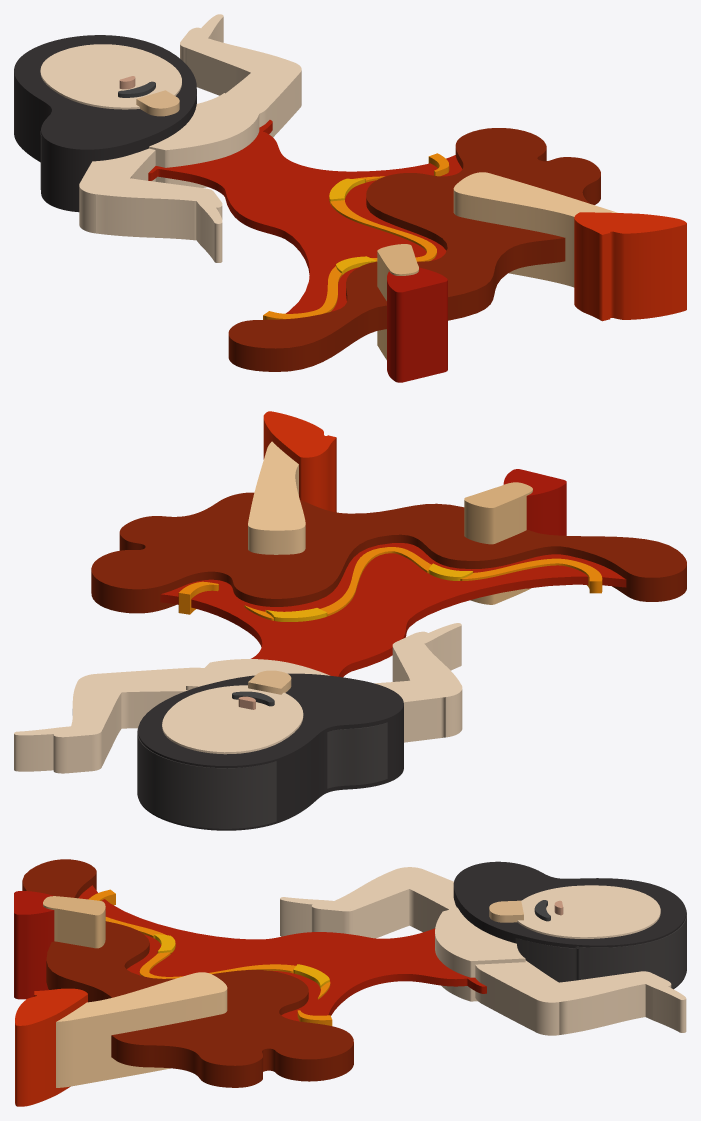
File: emoji_u1f483_1f3fb.glb
The picture shows the model from 3 angles, top to bottom: view 1: azimuth 30°, elevation 25°; view 2: azimuth 150°, elevation 25°; view 3: azimuth 270°, elevation 25°; orthographic projection. The views are drawn at different scales.
Visible parts, largest first — view 1: emoji_u1f483_1f3fb; view 2: emoji_u1f483_1f3fb; view 3: emoji_u1f483_1f3fb.
Part boxes in pixels (x1,y1,x2,y2): emoji_u1f483_1f3fb: (14,14,686,382); emoji_u1f483_1f3fb: (14,411,686,830); emoji_u1f483_1f3fb: (14,859,686,1106).
Size of the model in its own units: 0.0241 by 0.0048 by 0.0332.
